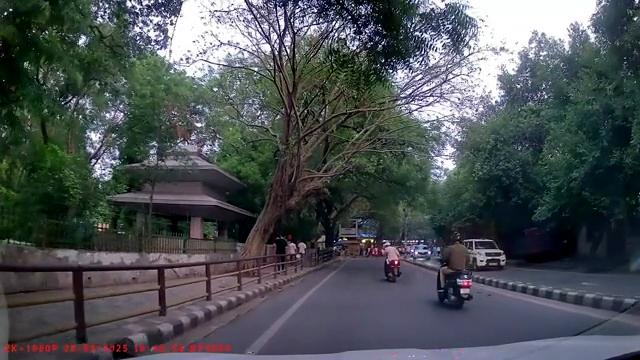motorcycle_with_helmet: (437, 231, 473, 310), (383, 243, 402, 283)
